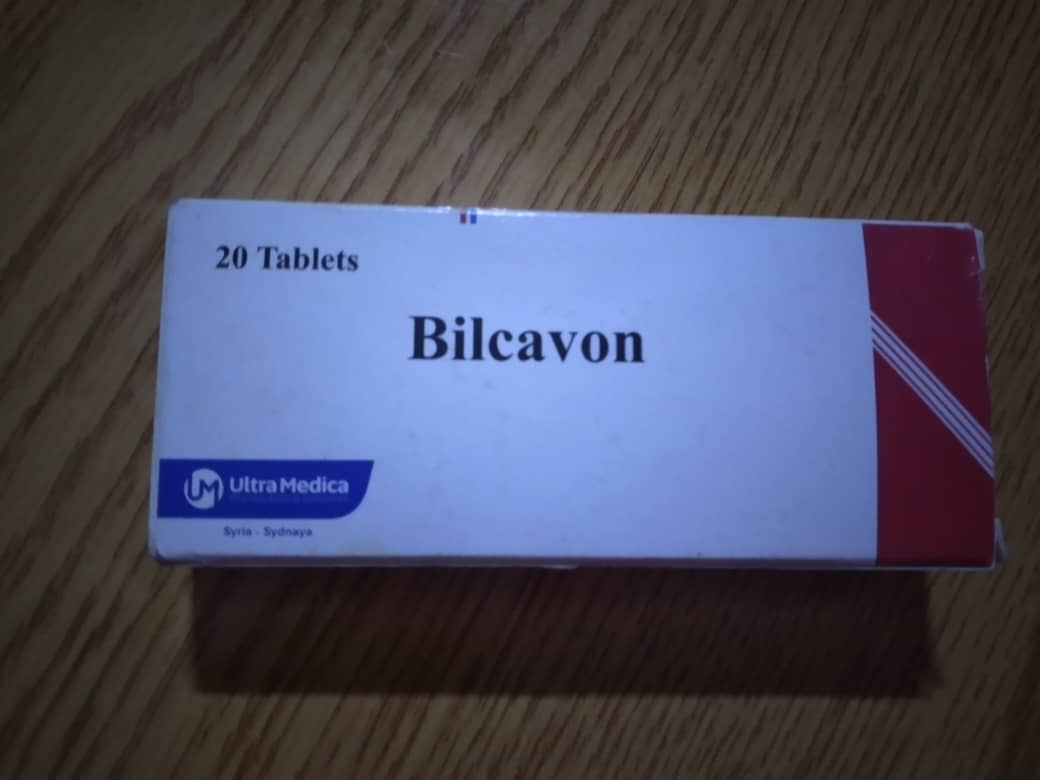Medicine: (146, 186, 1014, 606)
